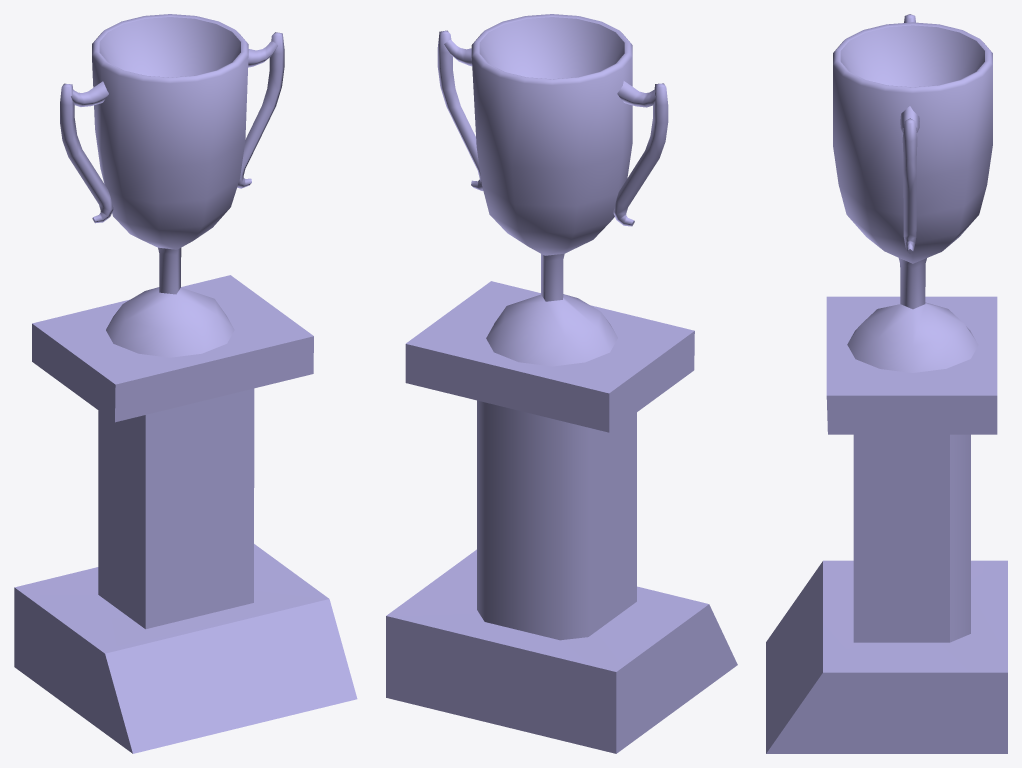
Rendered from Cup_05.fbx.
The picture shows the model from 3 angles, left to right: view 1: azimuth 30°, elevation 25°; view 2: azimuth 150°, elevation 25°; view 3: azimuth 270°, elevation 25°; orthographic projection. The views are drawn at different scales.
Parts seen in each view (by area): view 1: Cup_05; view 2: Cup_05; view 3: Cup_05.
Part boxes in pixels (x1,y1,x2,y2): Cup_05: [14, 14, 357, 753]; Cup_05: [386, 14, 737, 753]; Cup_05: [766, 14, 1007, 753].
Size of the model in its own units: 18.7 by 49.48 by 16.91.
